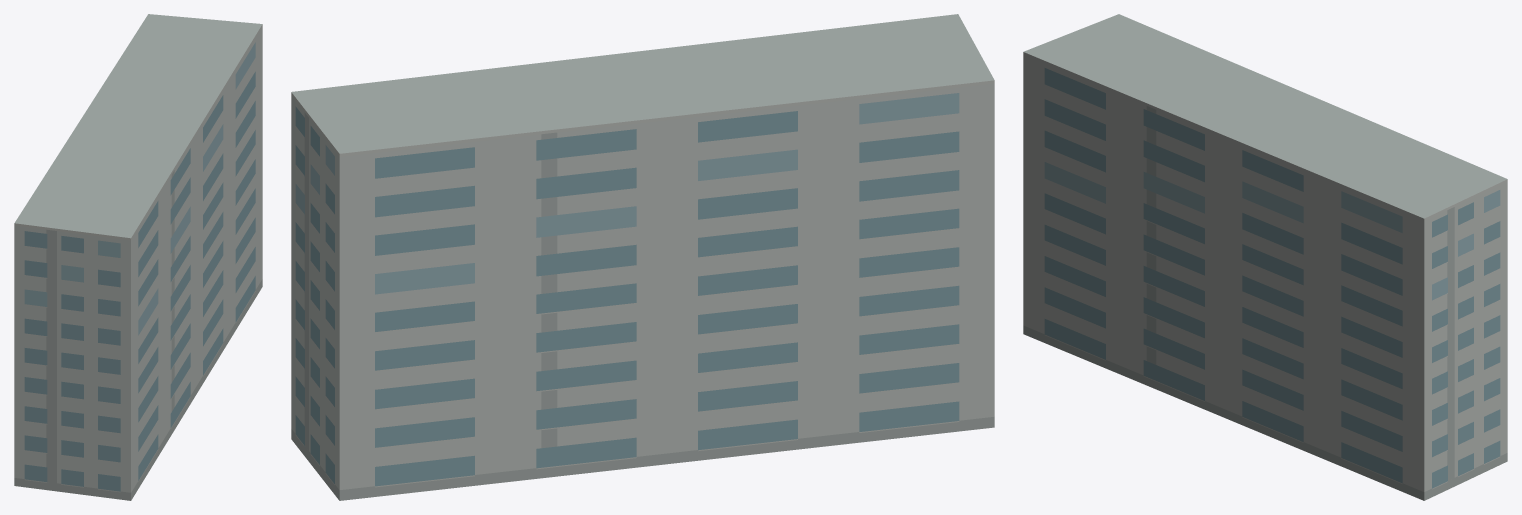
The model's file is residential-95fd1c55-ab37-42d7-b46a-983b6f4ac636.glb.
The picture shows the model from 3 angles, left to right: view 1: azimuth 30°, elevation 25°; view 2: azimuth 150°, elevation 25°; view 3: azimuth 270°, elevation 25°; orthographic projection. The views are drawn at different scales.
Parts seen in each view (by area): view 1: residential-95fd1c55-ab37-42d7-b46a-983b6f4ac636.tmp; view 2: residential-95fd1c55-ab37-42d7-b46a-983b6f4ac636.tmp; view 3: residential-95fd1c55-ab37-42d7-b46a-983b6f4ac636.tmp.
Part boxes in pixels (x1=…): residential-95fd1c55-ab37-42d7-b46a-983b6f4ac636.tmp: x1=14, y1=14, x2=262, y2=500; residential-95fd1c55-ab37-42d7-b46a-983b6f4ac636.tmp: x1=291, y1=14, x2=994, y2=500; residential-95fd1c55-ab37-42d7-b46a-983b6f4ac636.tmp: x1=1023, y1=14, x2=1507, y2=500.
Bounding box in the file's own units: 42.69 × 27.45 × 42.71.
